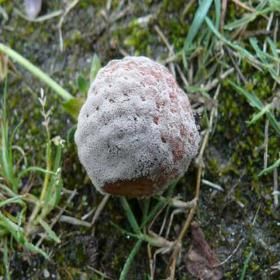Gray Mold: (75, 55, 201, 198)
